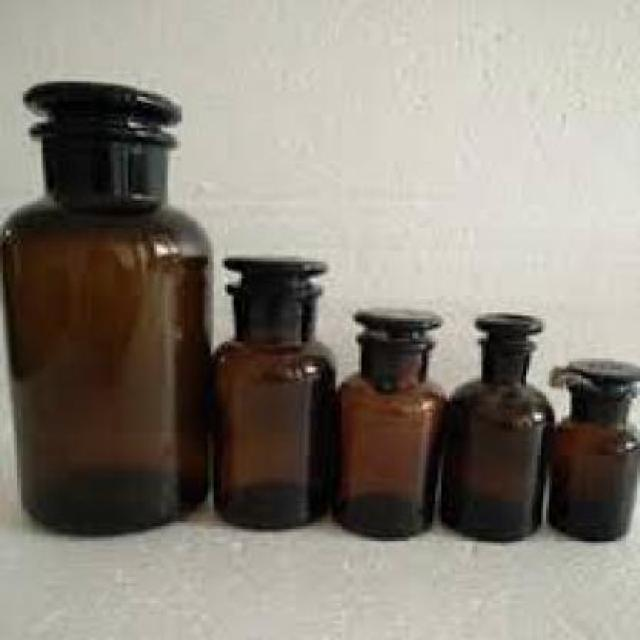kaca: (0, 83, 208, 535), (211, 256, 332, 530), (443, 310, 549, 542), (339, 305, 443, 537), (546, 358, 637, 540)
